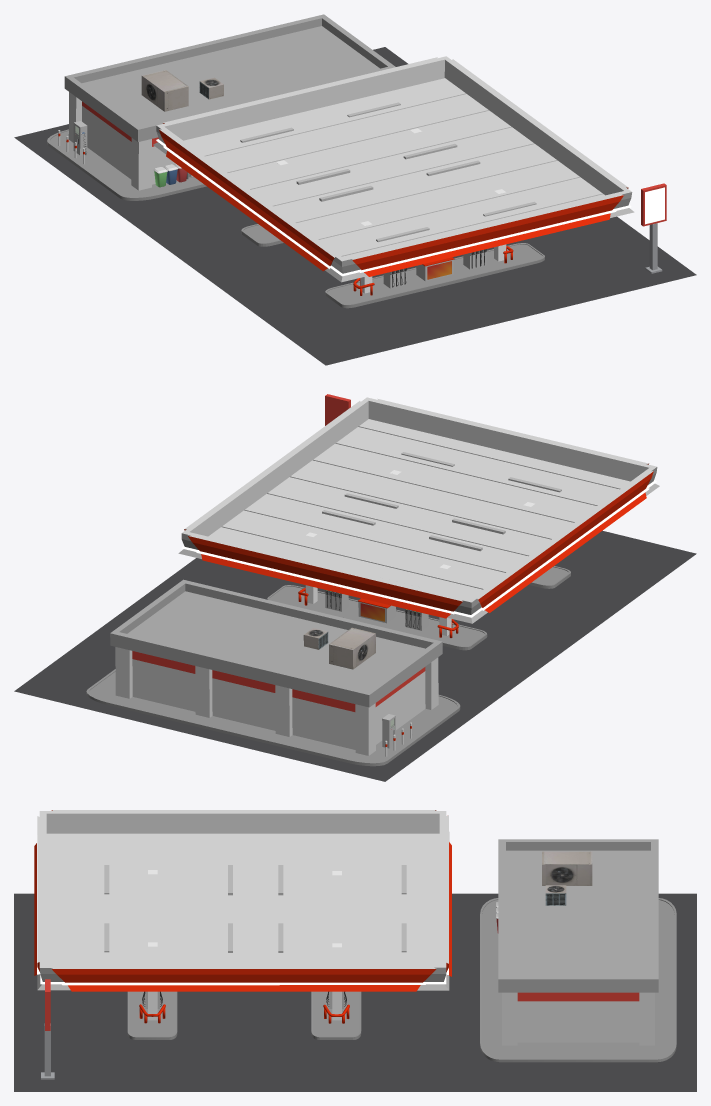
The model's file is tankstelle_lod0.glb.
3 renders of one model, top to bottom at view 1: azimuth 30°, elevation 25°; view 2: azimuth 150°, elevation 25°; view 3: azimuth 270°, elevation 25°, orthographic. The views are drawn at different scales.
Visible parts, largest first — view 1: Dach, Boden, Shop_Huelle, Inseln, Dachleuchten, Zubehoer, Preistafel_Mast, Aufsteller, preistafel_flaeche; view 2: Dach, Shop_Huelle, Boden, Inseln, Dachleuchten, Aufsteller; view 3: Dach, Boden, Shop_Huelle, Inseln, Dachleuchten, Dachstuetzen, Preistafel_Mast, Poller.
Part boxes in pixels (<box>): Dach: <box>153,56,634,282</box>; Boden: <box>14,47,696,365</box>; Shop_Huelle: <box>64,14,395,190</box>; Inseln: <box>47,129,544,308</box>; Dachleuchten: <box>240,102,536,242</box>; Zubehoer: <box>73,121,193,187</box>; Preistafel_Mast: <box>641,183,666,273</box>; Aufsteller: <box>416,257,454,281</box>; preistafel_flaeche: <box>645,187,664,224</box>; Dach: <box>178,397,659,623</box>; Shop_Huelle: <box>110,579,442,755</box>; Boden: <box>14,530,696,781</box>; Inseln: <box>86,566,570,766</box>; Dachleuchten: <box>322,452,561,551</box>; Aufsteller: <box>358,598,395,623</box>; Dach: <box>34,810,451,991</box>; Boden: <box>14,893,696,1091</box>; Shop_Huelle: <box>498,839,658,1045</box>; Inseln: <box>127,898,676,1062</box>; Dachleuchten: <box>104,865,406,952</box>; Dachstuetzen: <box>148,870,341,1020</box>; Preistafel_Mast: <box>41,979,54,1079</box>; Poller: <box>139,1004,349,1023</box>.
Bounding box in the file's own units: 27.75 × 6.39 × 40.37.
44 materials, 10 textured.
